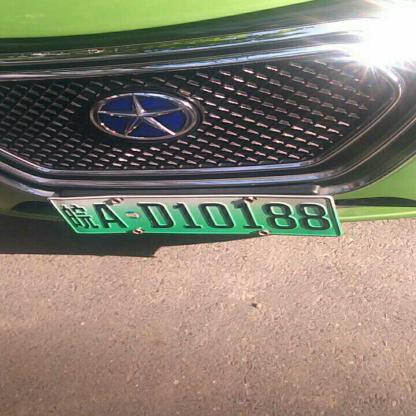lp: (47, 196, 77, 234)
